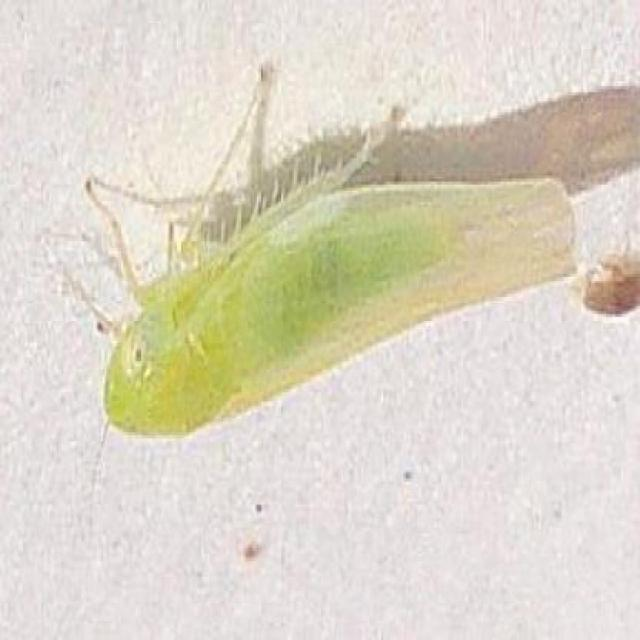green-leafhopper: (107, 174, 576, 441)
